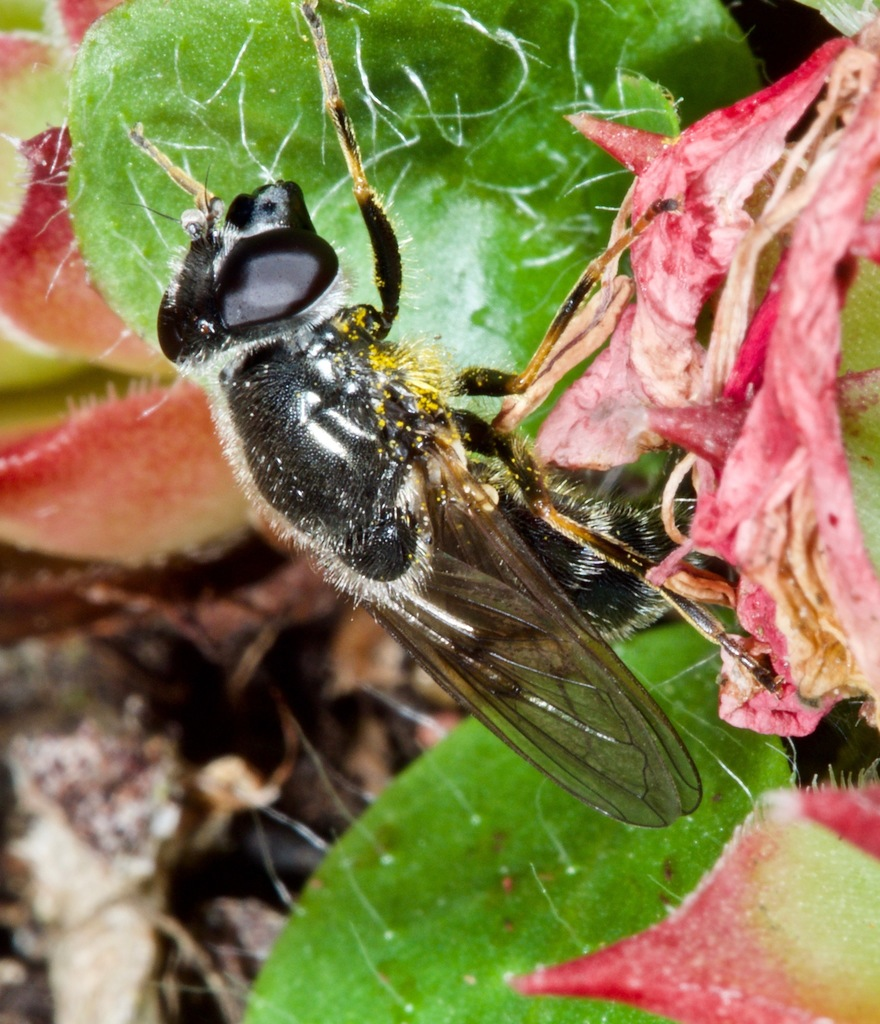not_bumblebee: (127, 1, 784, 830)
